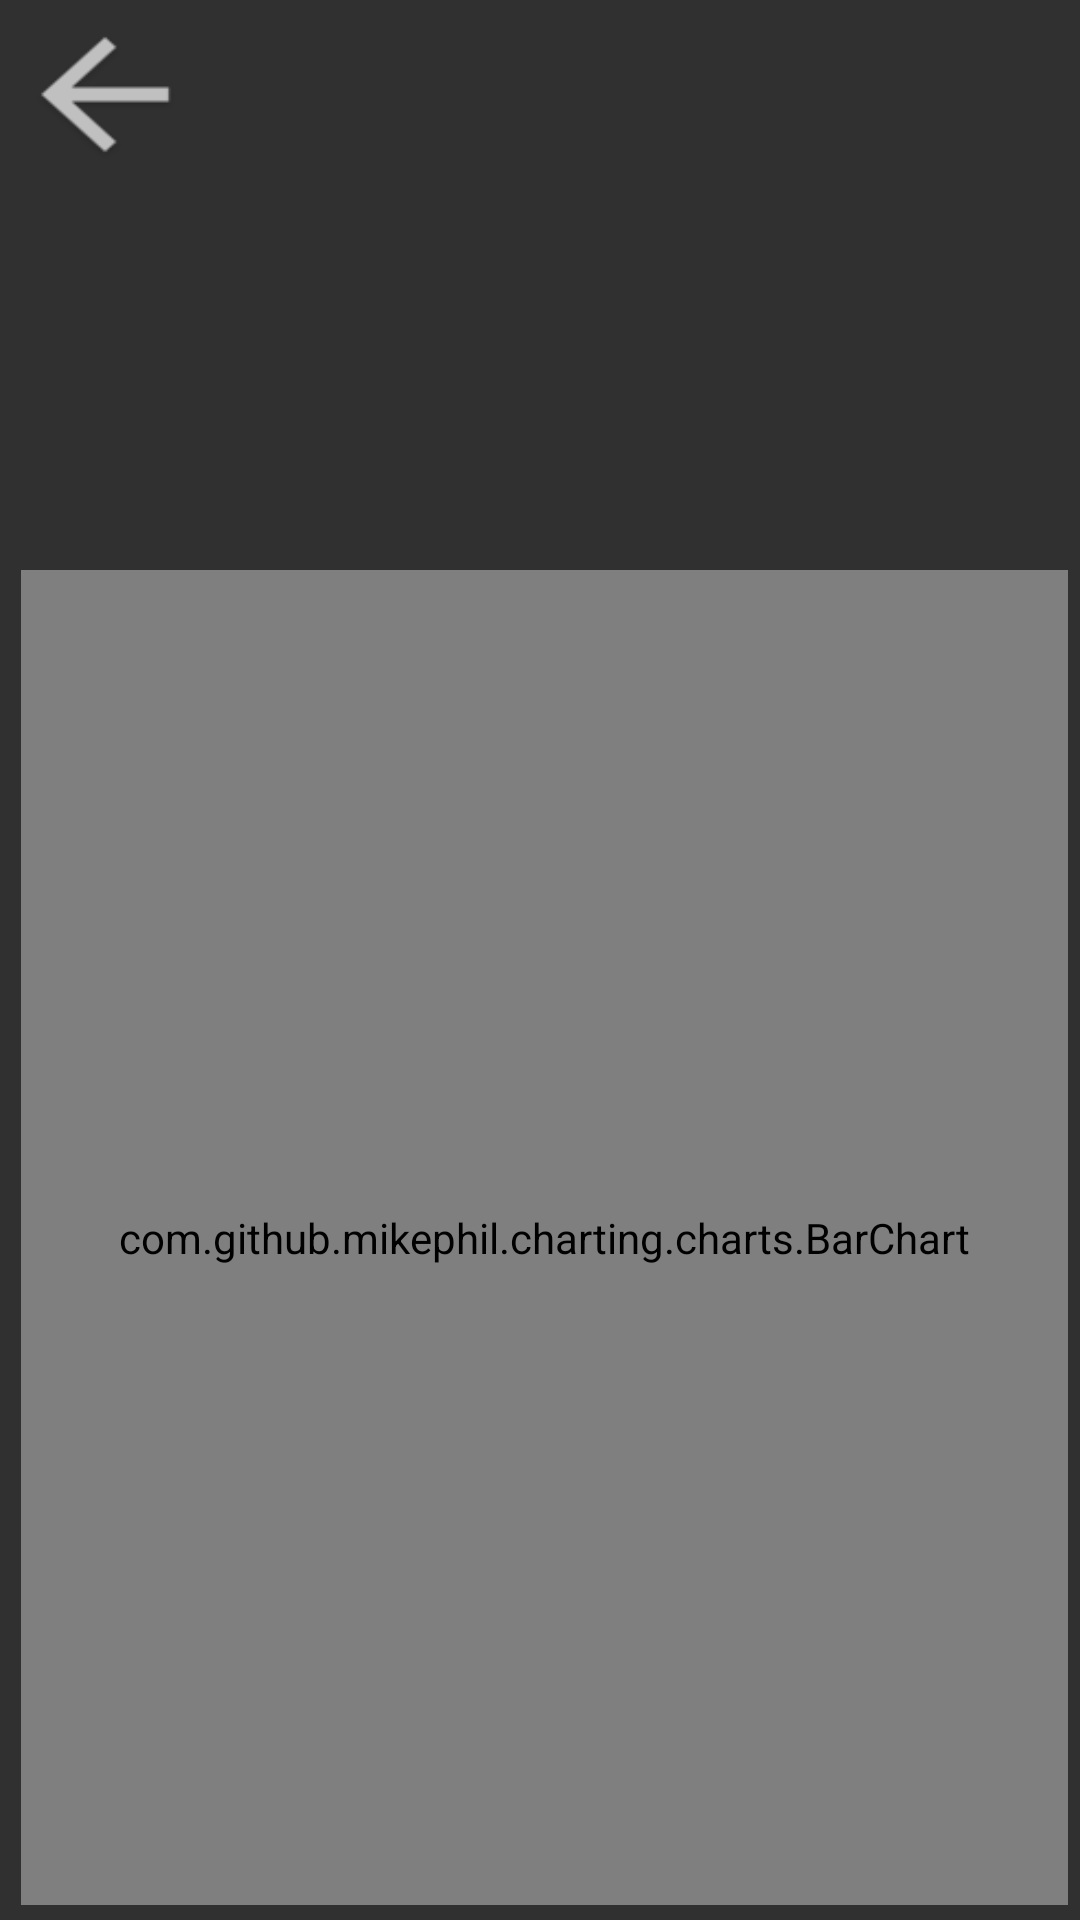

Point at icon controls on the screen. Image size 1080px x 1920px, points as (x,y).
backbtn: (105,94)
